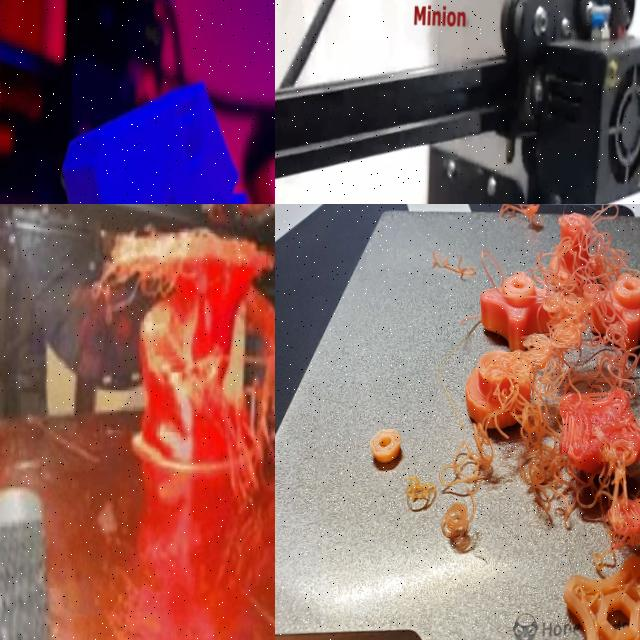spaghetti: (499, 253, 602, 541), (600, 236, 640, 395), (444, 412, 494, 492), (423, 238, 483, 298), (562, 204, 629, 245), (394, 460, 440, 514), (488, 204, 548, 237), (440, 504, 480, 546)
